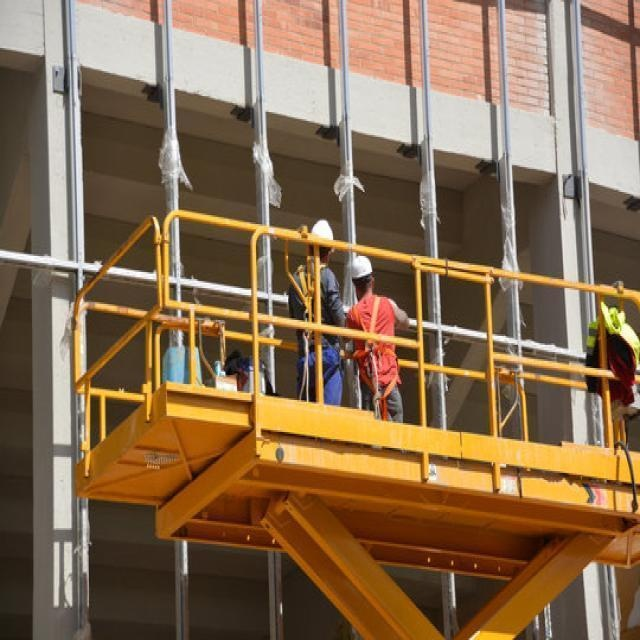Arnes_seguridad: (353, 302, 400, 398), (297, 262, 333, 356)
